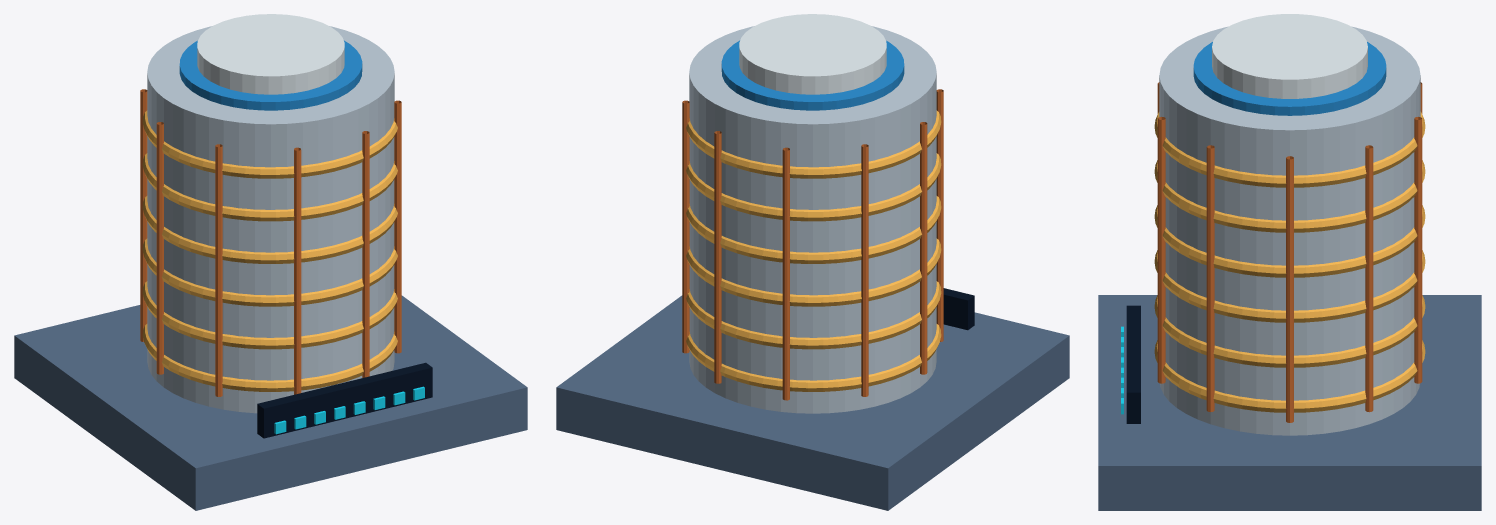
Rendered from 35_L91_RedundantAtomicClockReference.fbx.
3 renders of one model, left to right at view 1: azimuth 30°, elevation 25°; view 2: azimuth 150°, elevation 25°; view 3: azimuth 270°, elevation 25°, orthographic. The views are drawn at different scales.
Parts seen in each view (by area): view 1: L91_RedundantAtomicClockReference, L91_RedundantAtomicClockReference_Part_0003; view 2: L91_RedundantAtomicClockReference, L91_RedundantAtomicClockReference_Part_0003; view 3: L91_RedundantAtomicClockReference, L91_RedundantAtomicClockReference_Part_0003.
Boxes of the visible parts, x1,y1,x2,y2 form: L91_RedundantAtomicClockReference: (14,14,527,510); L91_RedundantAtomicClockReference_Part_0003: (142,110,397,391); L91_RedundantAtomicClockReference: (556,14,1069,510); L91_RedundantAtomicClockReference_Part_0003: (686,110,941,391); L91_RedundantAtomicClockReference: (1098,14,1481,510); L91_RedundantAtomicClockReference_Part_0003: (1154,111,1425,412).
Bounding box in the file's own units: 285 × 294 × 270.
